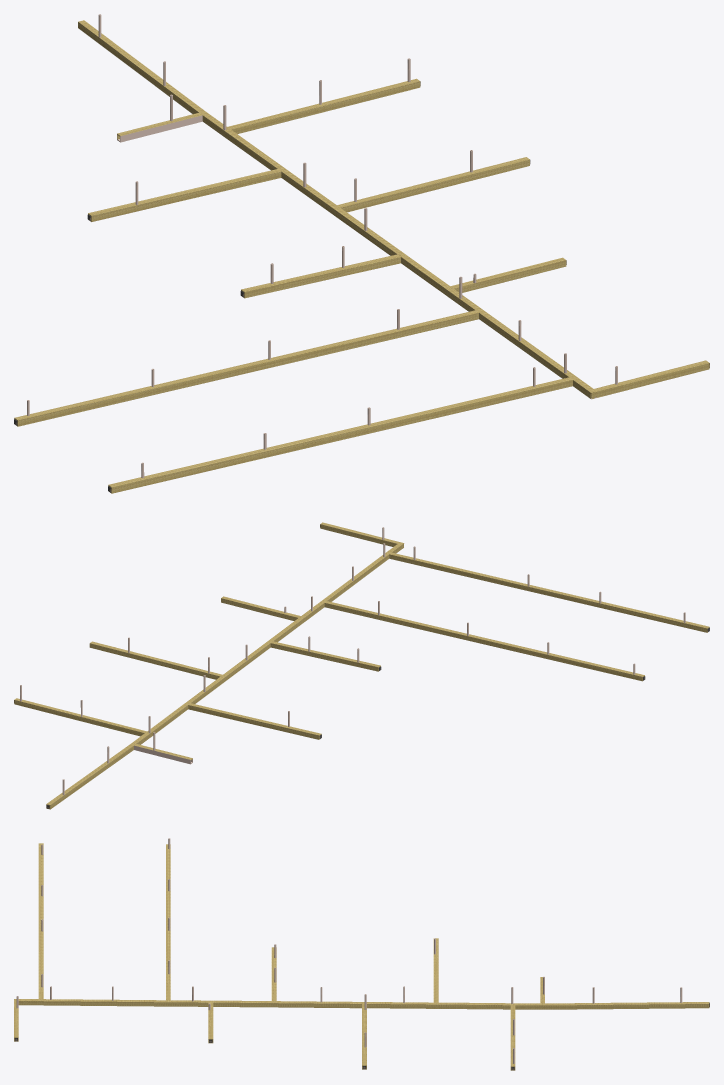
Rendered from Sewers.glb.
The picture shows the model from 3 angles, top to bottom: view 1: azimuth 30°, elevation 25°; view 2: azimuth 150°, elevation 25°; view 3: azimuth 270°, elevation 25°; orthographic projection. The views are drawn at different scales.
Parts seen in each view (by area): view 1: SEWERS, Manhole Conenctors; view 2: SEWERS, Manhole Conenctors; view 3: SEWERS, Manhole Conenctors.
Boxes of the visible parts, x1,y1,x2,y2 form: SEWERS: [14, 20, 709, 493]; Manhole Conenctors: [27, 14, 617, 478]; SEWERS: [14, 522, 709, 809]; Manhole Conenctors: [20, 527, 685, 795]; SEWERS: [14, 843, 709, 1070]; Manhole Conenctors: [16, 838, 682, 1063].
Size of the model in its own units: 460 by 21.74 by 621.
4 materials, 2 textured.
